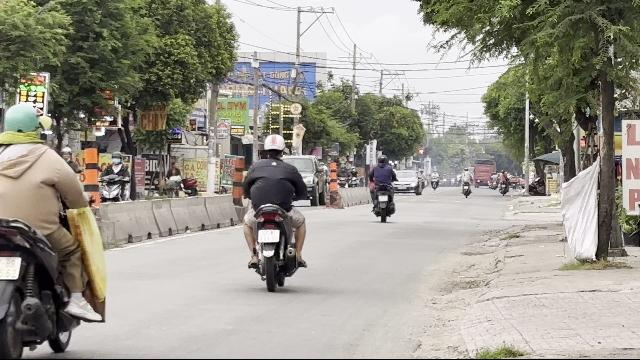helmet: (1, 102, 44, 146), (261, 133, 285, 159)
licenseplate: (258, 229, 280, 243)
motorcyclist: (0, 99, 116, 357), (238, 131, 310, 289)
